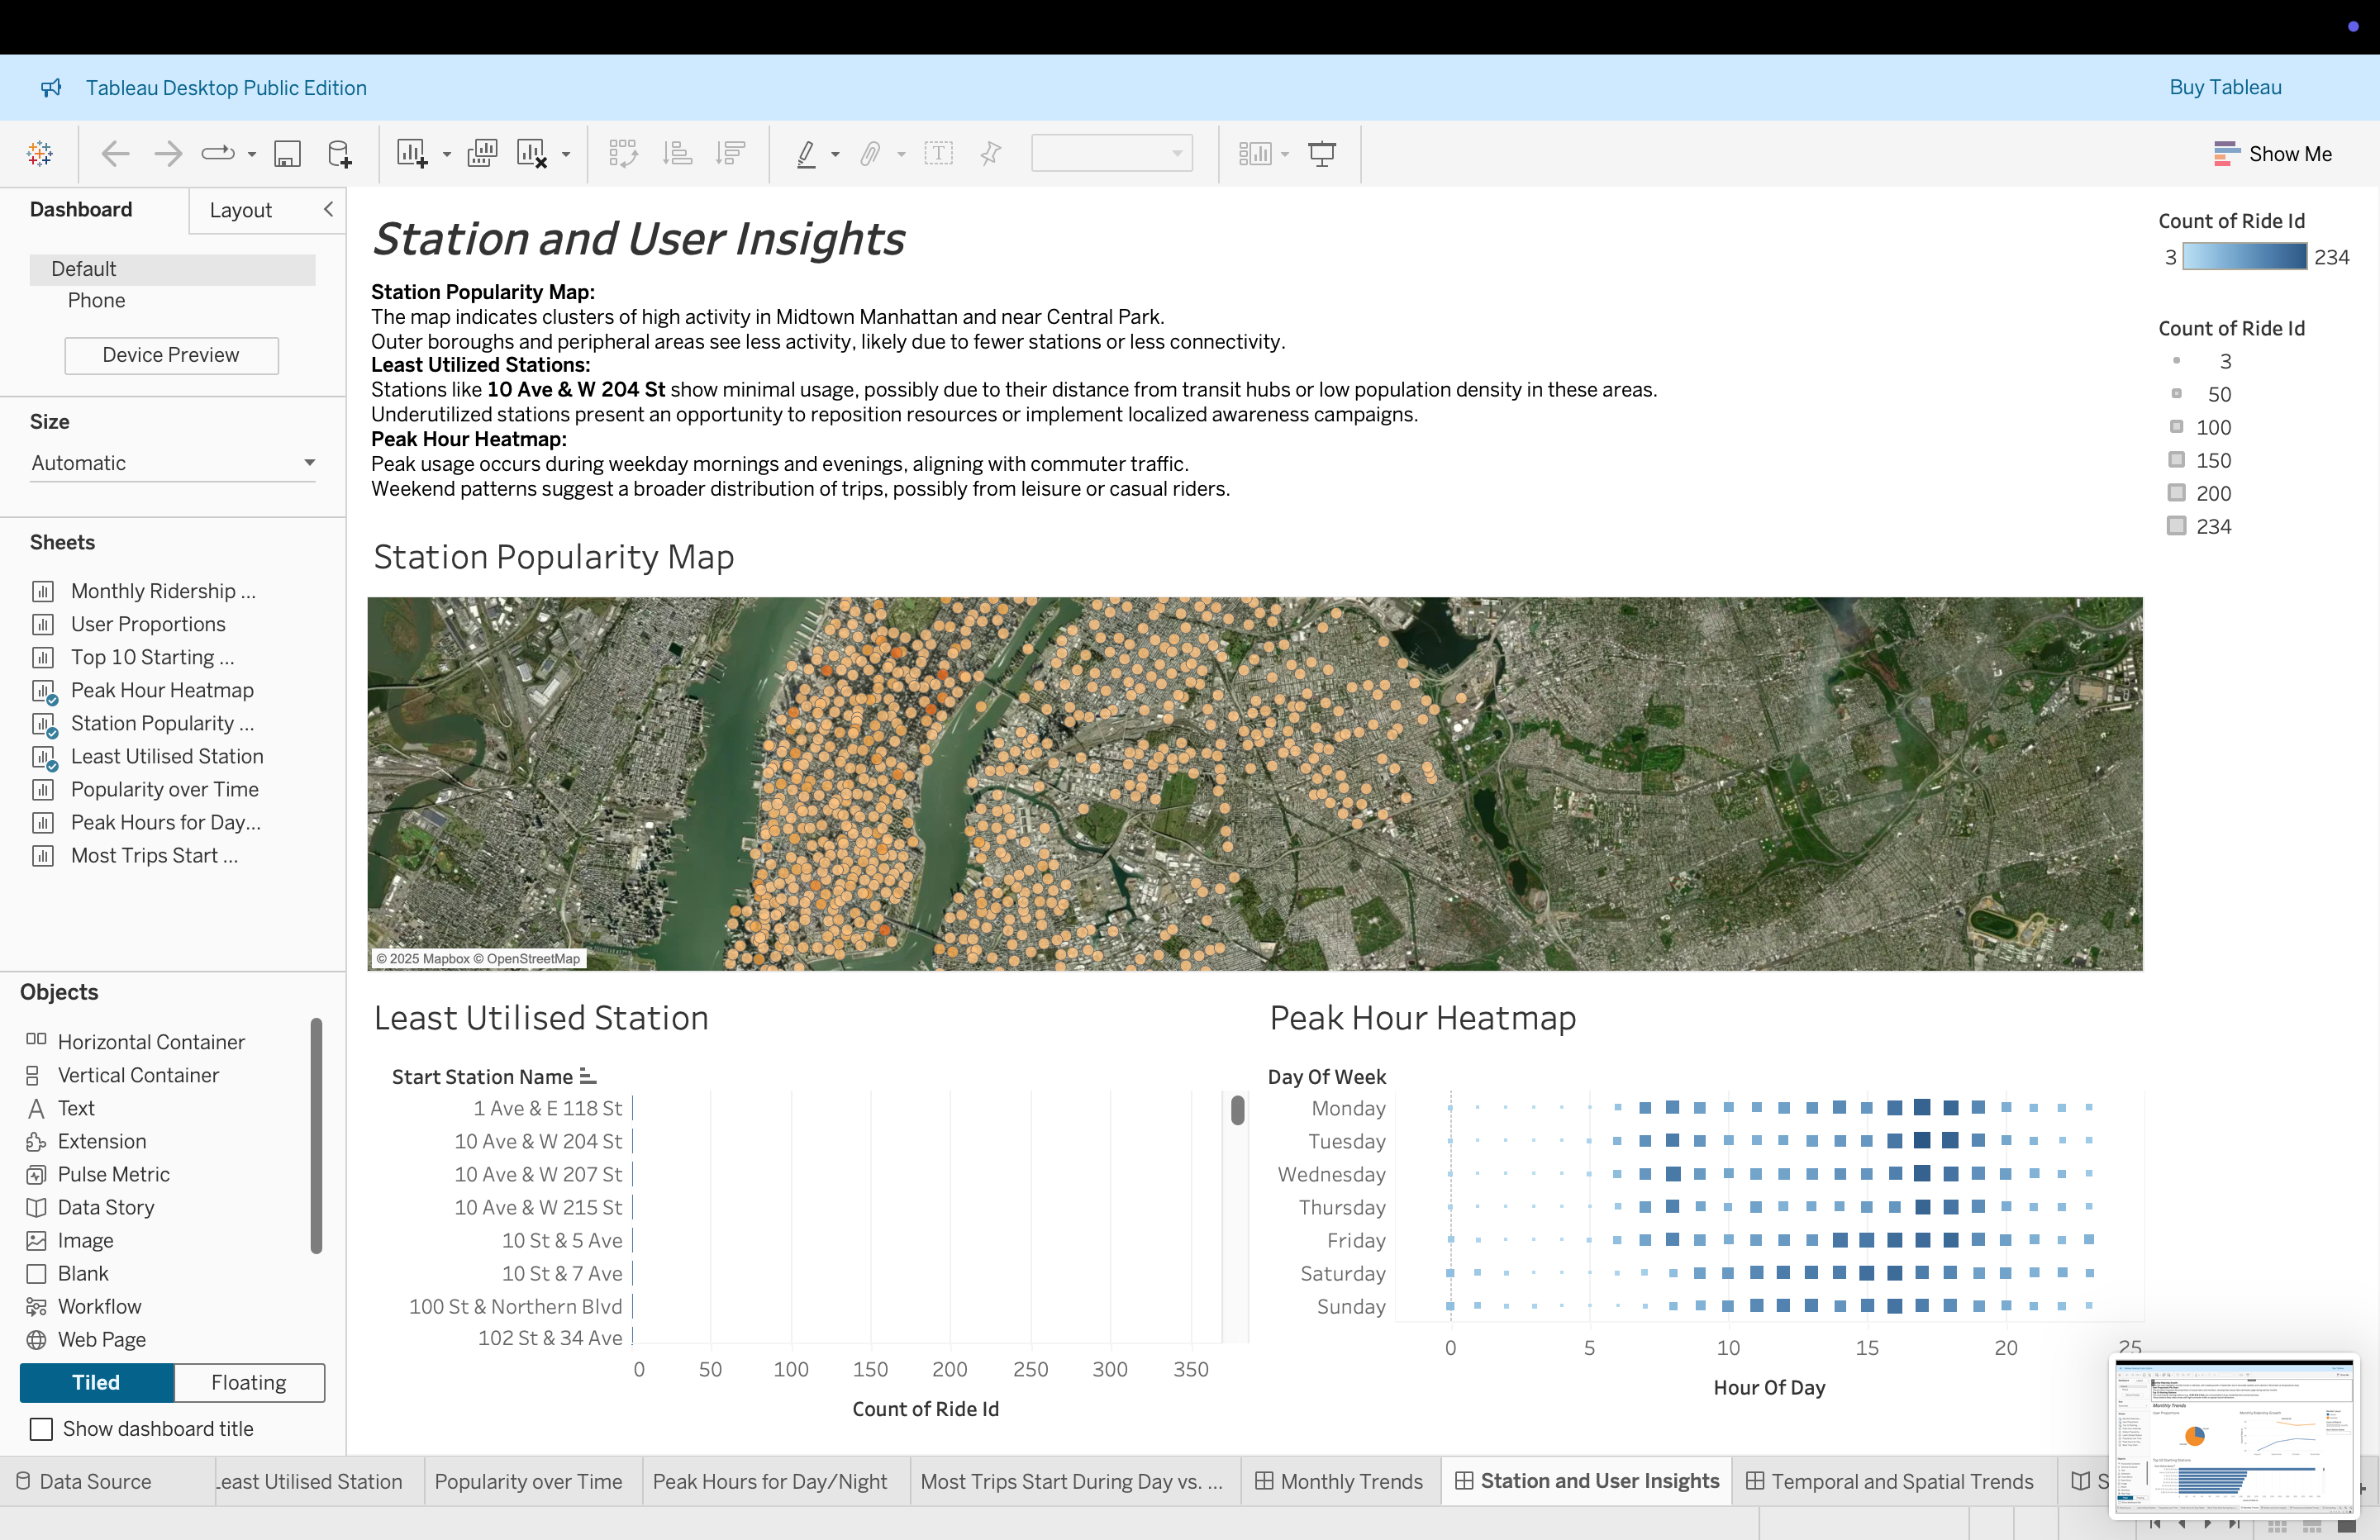

The page's visual inventory and layout, read from the dashboard file:
{"tool":"tableau","page":{"name":"Station and User Insights","canvas":[1000,1000],"units":"permille","ordinal":1},"visuals":[{"type":"title","box":[8.5,11.5,846.2,64.8]},{"type":"legend","title":"Peak Hour Heatmap","param":"[federated.135g5j40vtv48m1bom8z51b5k51r].[cnt:Ride Id:qk]","box":[854.7,11.5,136.8,93.7]},{"type":"text","box":[8.5,76.4,846.2,213.3]},{"type":"legend","title":"Peak Hour Heatmap","param":"[federated.135g5j40vtv48m1bom8z51b5k51r].[cnt:Ride Id:qk]","box":[854.7,105.2,136.8,210.4]},{"type":"worksheet","title":"Station Popularity Map","mark":"Multipolygon","rows":["Start Lat"],"cols":["Start Lng"],"box":[8.5,289.6,846.2,349.4]},{"type":"worksheet","title":"Least Utilised Station","mark":"Automatic","rows":["Start Station Name"],"cols":["Ride Id"],"box":[8.5,639,423.1,349.5]},{"type":"worksheet","title":"Peak Hour Heatmap","mark":"Square","rows":["day_of_week"],"cols":["hour_of_day"],"box":[431.6,639,423.2,349.5]}]}

Visuals, with their boxes on the dashboard's canvas, which has no fixed pixel size, in thousandths of its width and height (x1, y1, x2, y2). These are canvas units, not pixel positions in the 2380x1540 screenshot, which may show the page scaled, cropped or inside an application window:
title: bbox=(8, 12, 855, 76)
"Peak Hour Heatmap" legend: bbox=(855, 12, 992, 105)
text: bbox=(8, 76, 855, 290)
"Peak Hour Heatmap" legend: bbox=(855, 105, 992, 316)
"Station Popularity Map" worksheet (Multipolygon marks): bbox=(8, 290, 855, 639)
"Least Utilised Station" worksheet: bbox=(8, 639, 432, 988)
"Peak Hour Heatmap" worksheet (Square marks): bbox=(432, 639, 855, 988)
